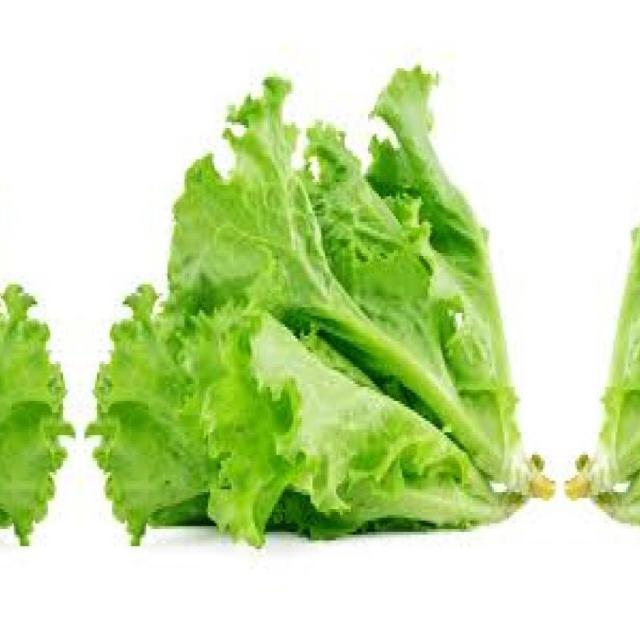healthy: (95, 63, 555, 535), (565, 63, 640, 535), (0, 63, 65, 535)
